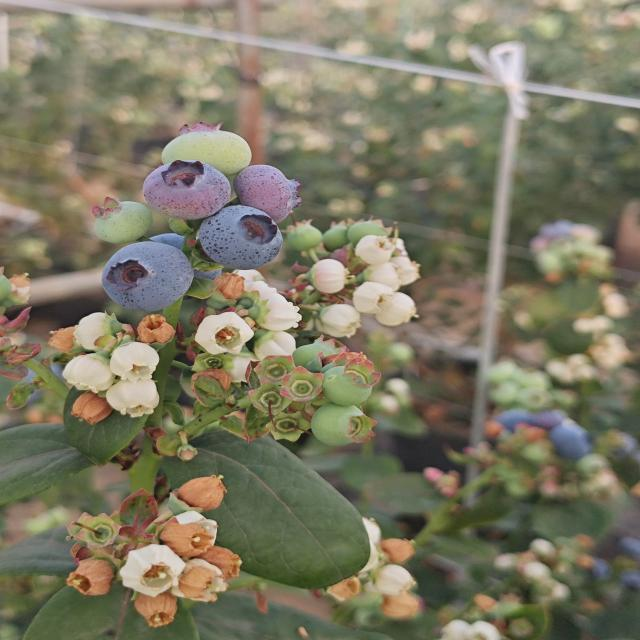ripe: (98, 240, 196, 314), (194, 203, 286, 272), (140, 158, 233, 222), (240, 164, 295, 214), (559, 419, 591, 456)
